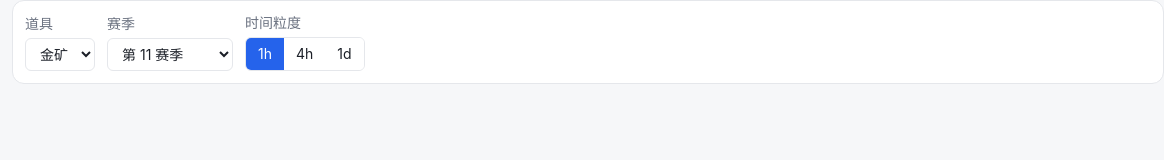
switches to another season
Step 1. Select "第 7 赛季" in the dropdown labelled "赛季" → (170, 54), box [107,38,233,71]
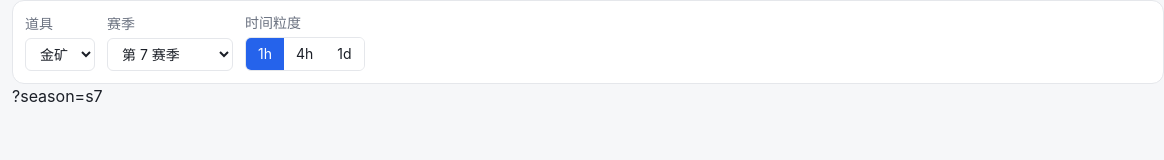
Now the text with test id "url" shows "season=s7", box [12,86,103,106]
